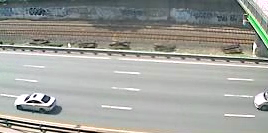car: (12, 91, 60, 114)
